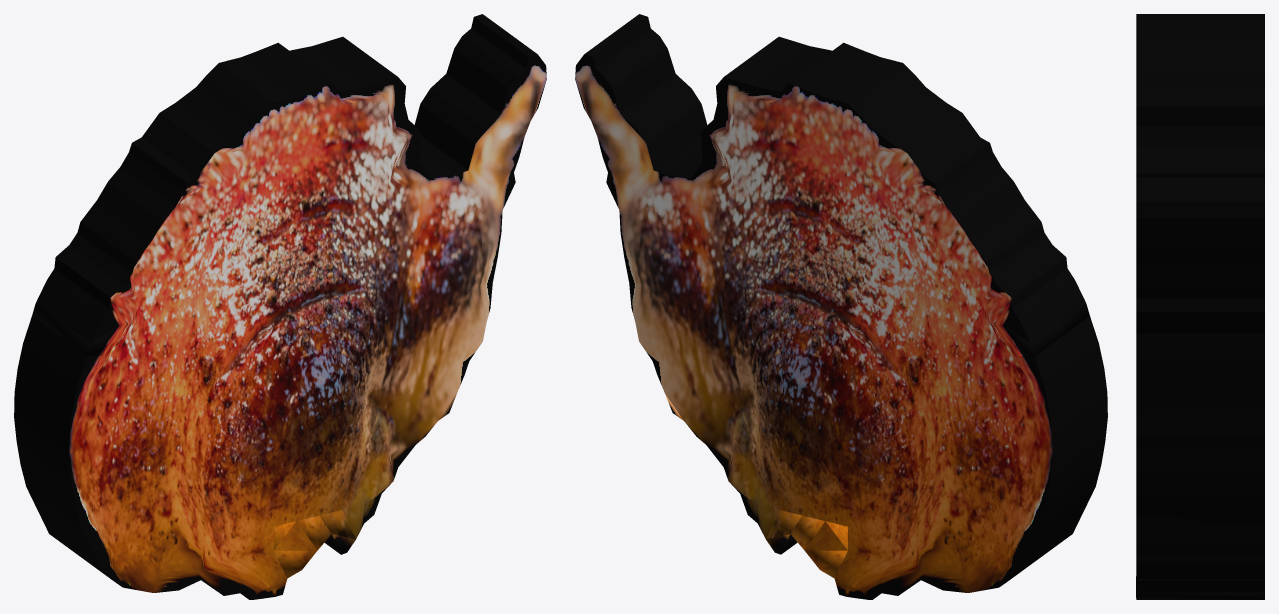
File: duck.glb
3 renders of one model, left to right at view 1: azimuth 30°, elevation 25°; view 2: azimuth 150°, elevation 25°; view 3: azimuth 270°, elevation 25°, orthographic. The views are drawn at different scales.
Visible parts, largest first — view 1: Plane; view 2: Plane; view 3: Plane.
Boxes of the visible parts, x1,y1,x2,y2 form: Plane: (14, 14, 546, 599); Plane: (575, 14, 1107, 599); Plane: (1136, 14, 1264, 599).
Bounding box in the file's own units: 1 × 0.9995 × 0.2004.
Materials: 1 (1 with a texture image).
